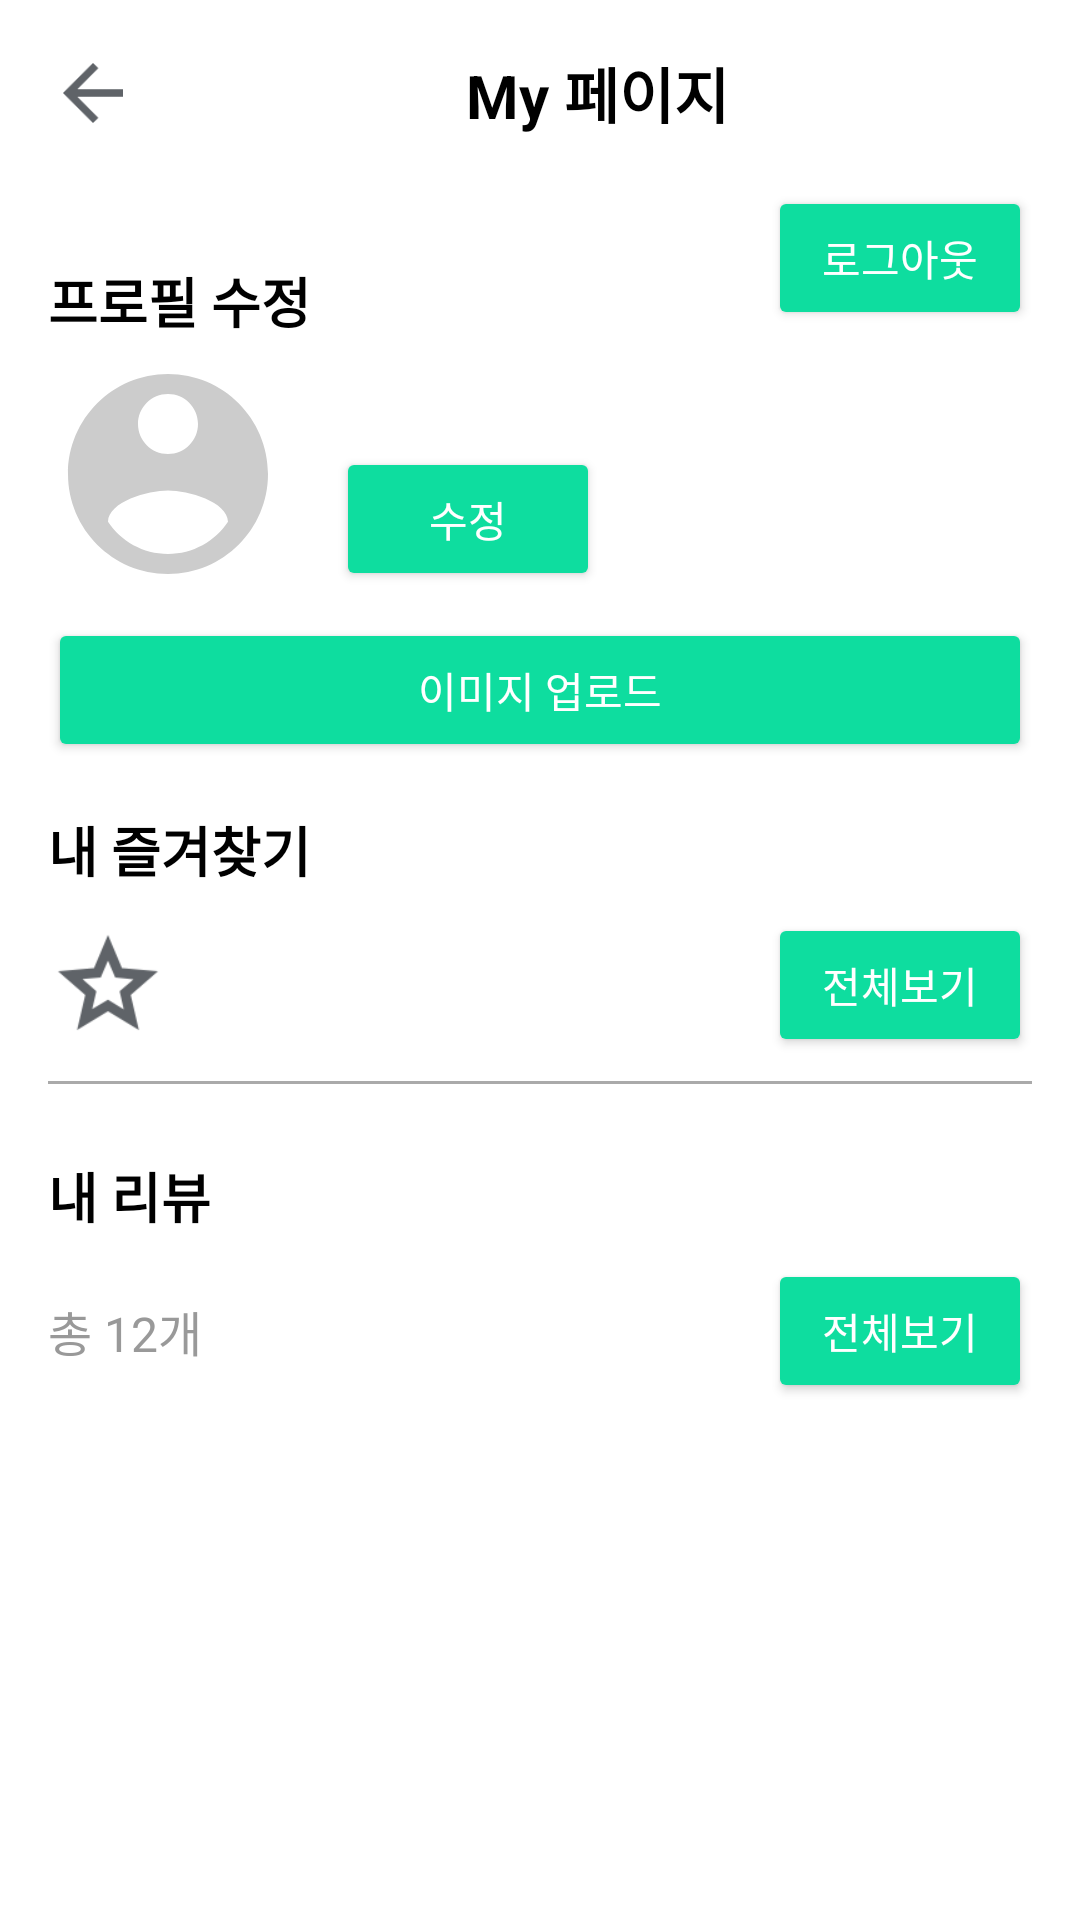

Icon click points for this 1080*1920 phone screenshot, format (x=x, y=y):
뒤로가기: (x=93, y=93)
즐겨찾기 이미지: (x=108, y=982)
